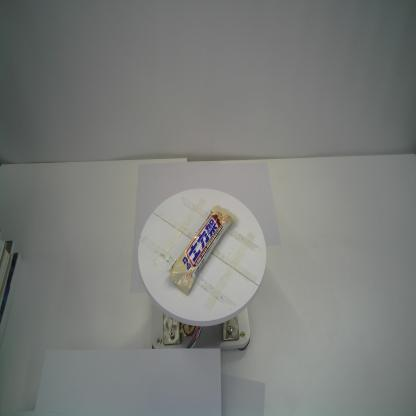Chocolate: (167, 204, 238, 294)
